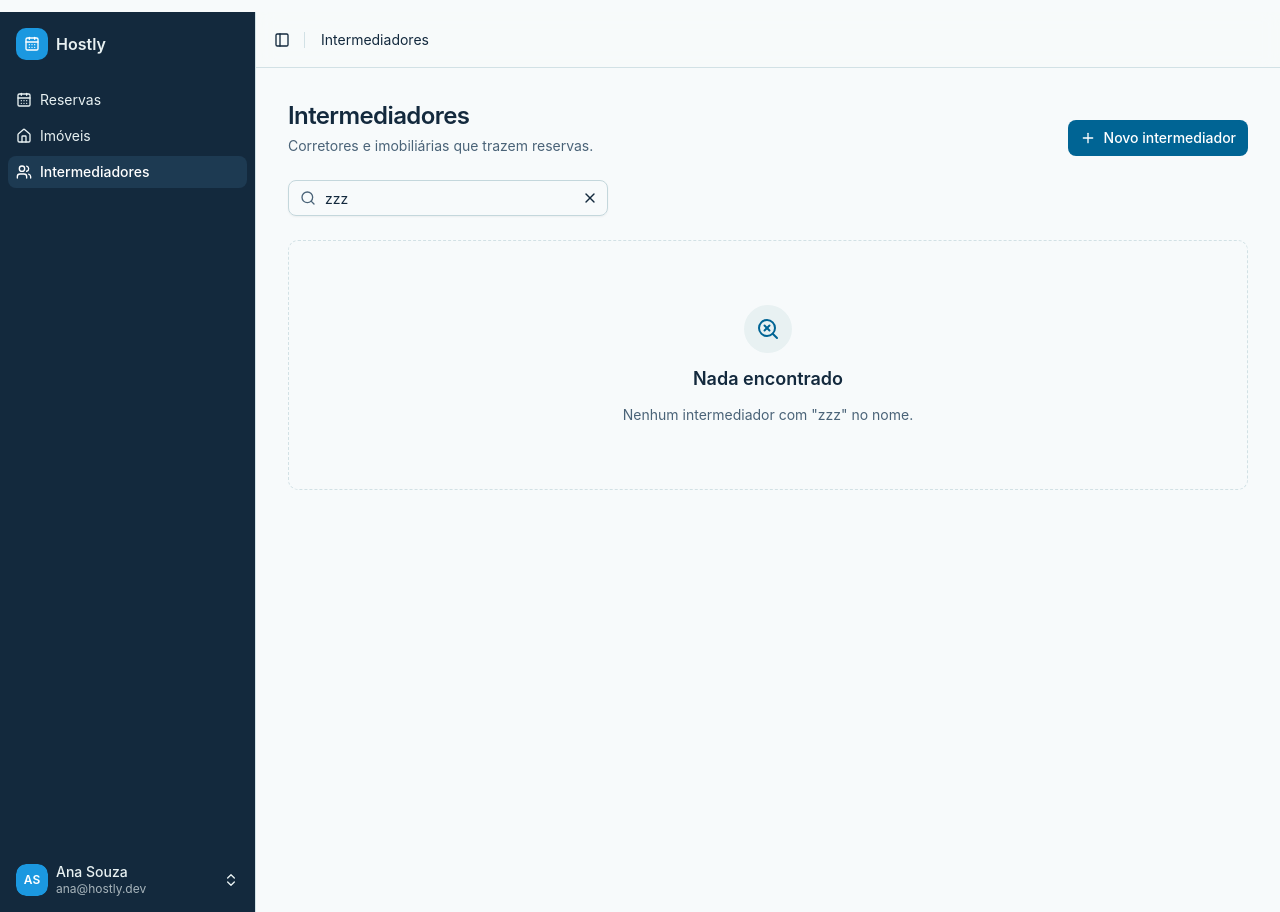
brokers list › keeps the search box while clearing a search that found nothing
This screenshot has width=1280, height=912.
Expected: the heading "Intermediadores" is shown, [288,101,469,130]
Expected: the heading "Nada encontrado" is shown, [693,365,843,393]
Click the button named "Limpar busca" at (590, 198), box [576,184,604,212]
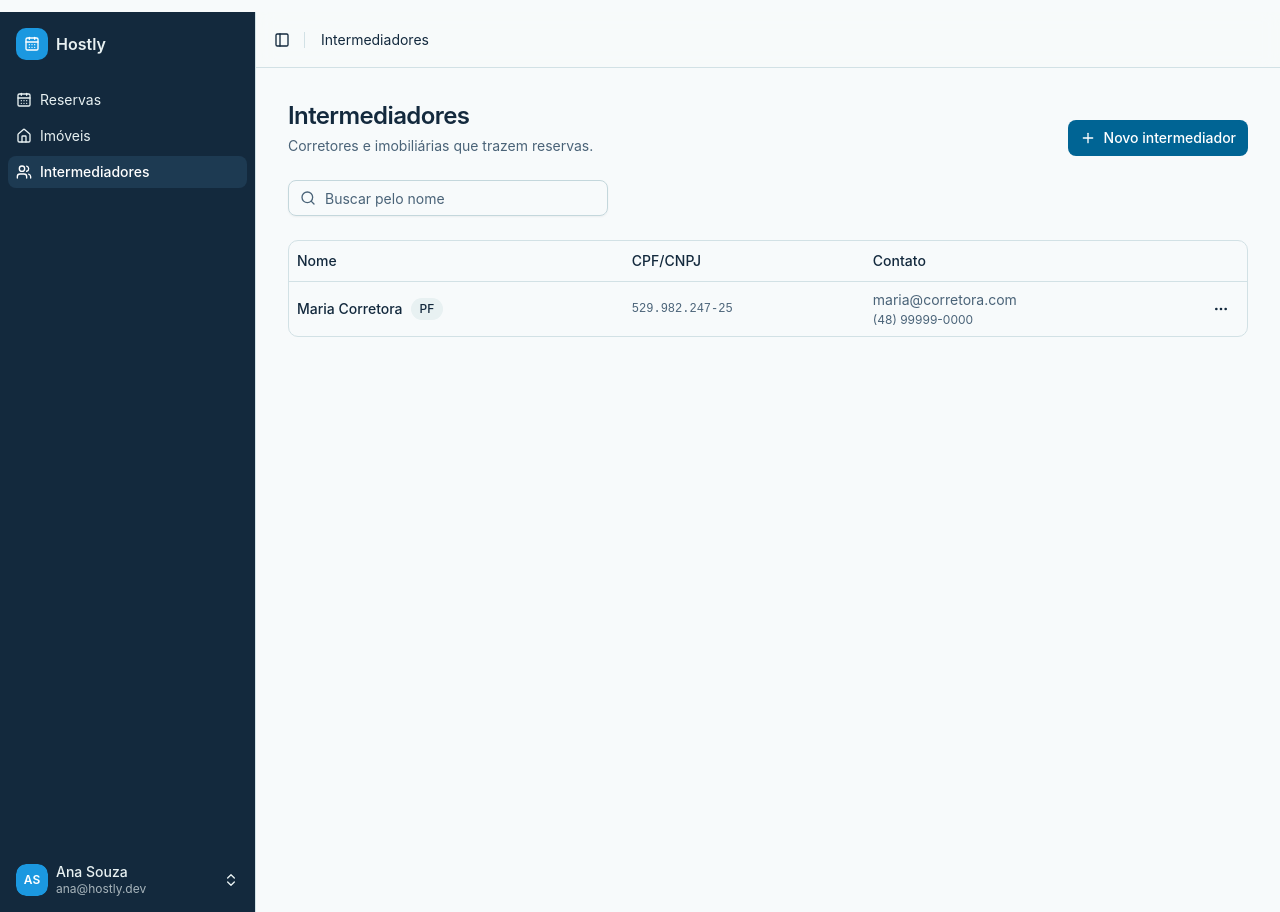
Expected: the search field is shown, [288,180,608,216]
Expected: the text "Maria Corretora" is shown, [297,298,402,318]
